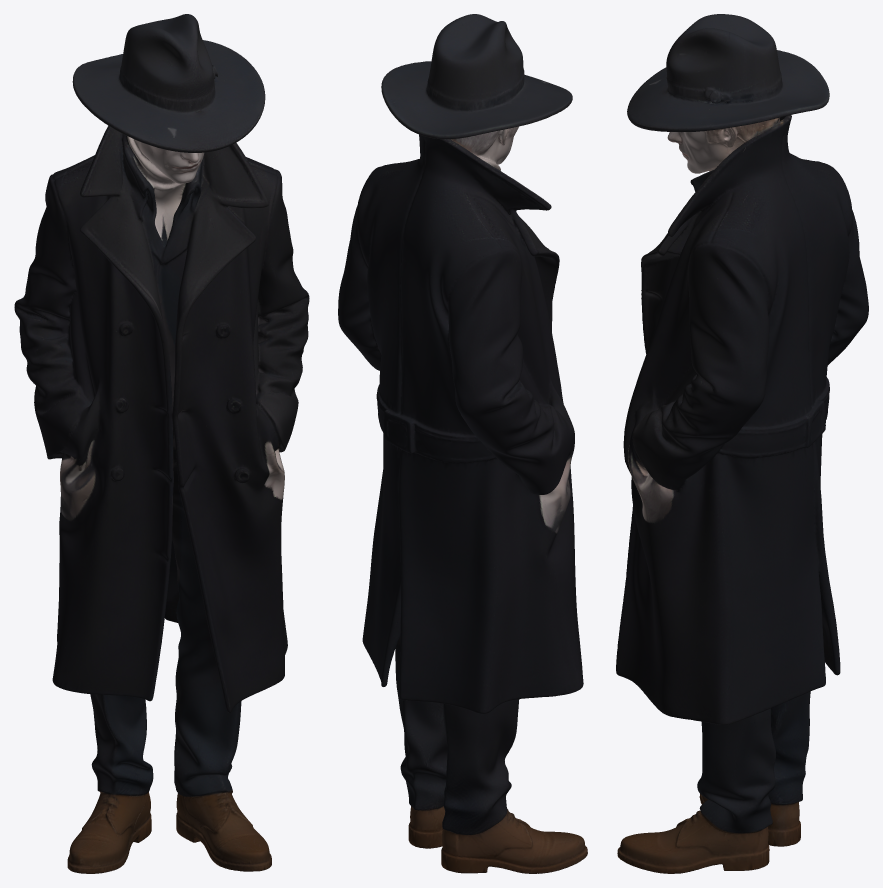
Rendered from private_detectiv.glb.
3 views of the same model, side by side, from view 1: azimuth 30°, elevation 25°; view 2: azimuth 150°, elevation 25°; view 3: azimuth 270°, elevation 25° (orthographic).
Size of the model in its own units: 0.5878 by 1.9 by 0.5289.
Materials: 1 (1 with a texture image).
